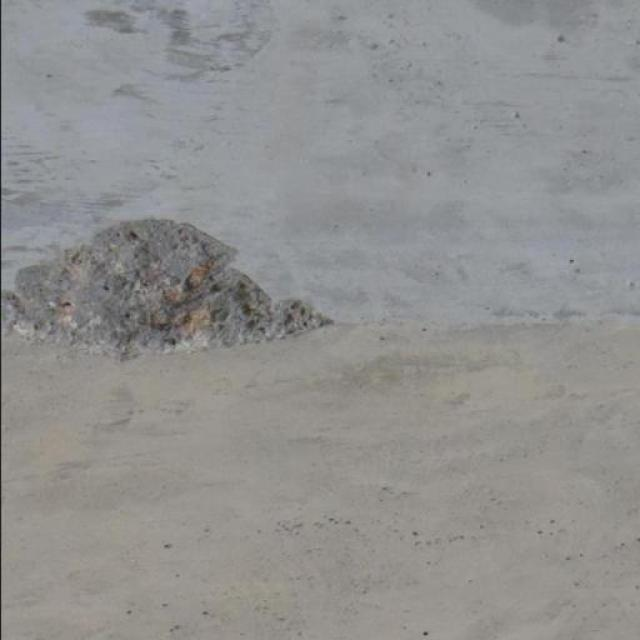D10: (0, 216, 329, 358)
